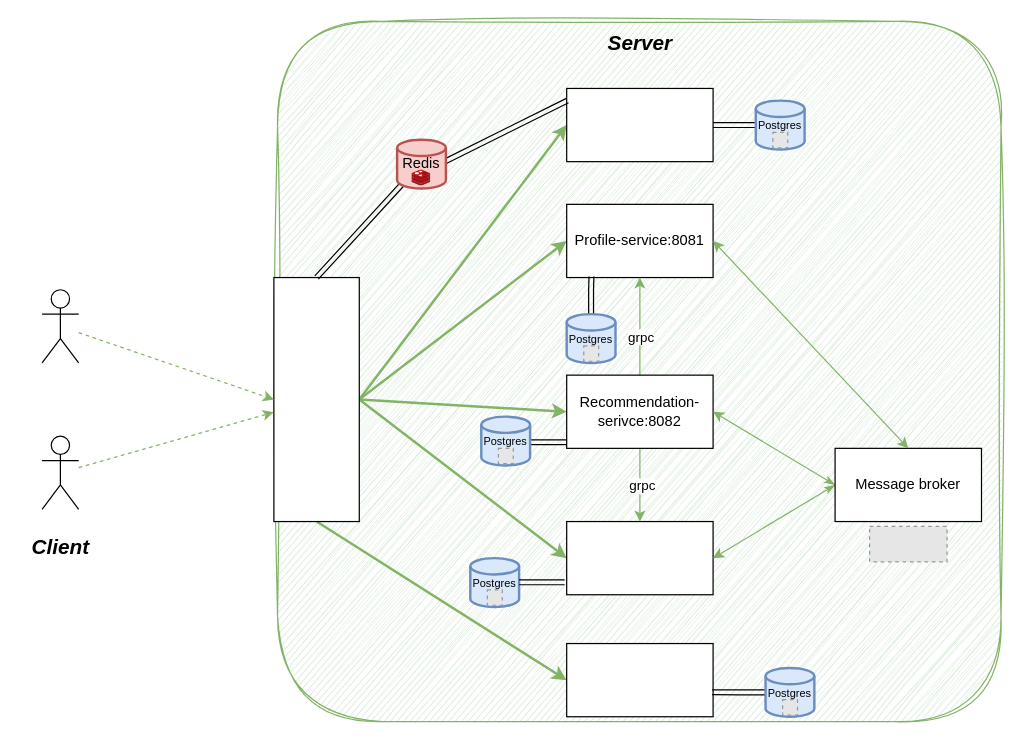
This 1022x743 diagram has some shape labels left out. Grey dashed boxes stand in for pictures. Here are the shapes that lost their labels. From the top down, the centre of each, then its label:
At pixel 639 124: "Auth-service:81".
At pixel 316 399: "api- gateway:80".
At pixel 639 557: "Location-service:8083".
At pixel 639 679: "Matcher-service:8084".
